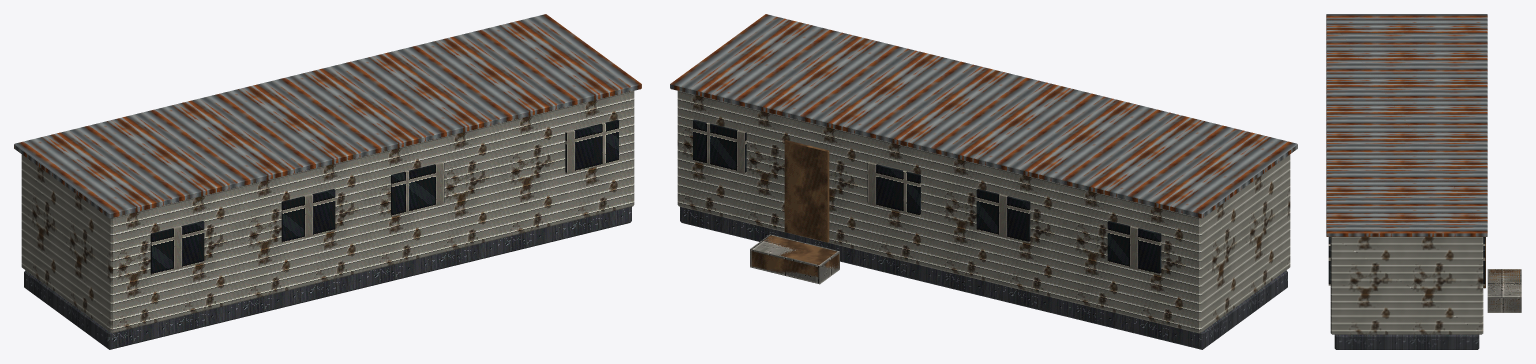
File: ext_trailer.glb
3 renders of one model, left to right at view 1: azimuth 30°, elevation 25°; view 2: azimuth 150°, elevation 25°; view 3: azimuth 270°, elevation 25°, orthographic. The views are drawn at different scales.
Visible parts, largest first — view 1: ext_trailer_mesh; view 2: ext_trailer_mesh, ext_trailer_col-colonly.001; view 3: ext_trailer_mesh, ext_trailer_col-colonly.001.
Boxes of the visible parts, left/top/right/bottom form: ext_trailer_mesh: left=14, top=14, right=641, bottom=349; ext_trailer_mesh: left=670, top=14, right=1297, bottom=349; ext_trailer_col-colonly.001: left=750, top=234, right=839, bottom=284; ext_trailer_mesh: left=1326, top=14, right=1520, bottom=349; ext_trailer_col-colonly.001: left=1487, top=269, right=1521, bottom=312.
Size of what is drawn, in the model's own units: 12.2 by 3.16 by 4.6.
Materials: 6 (6 with a texture image).
